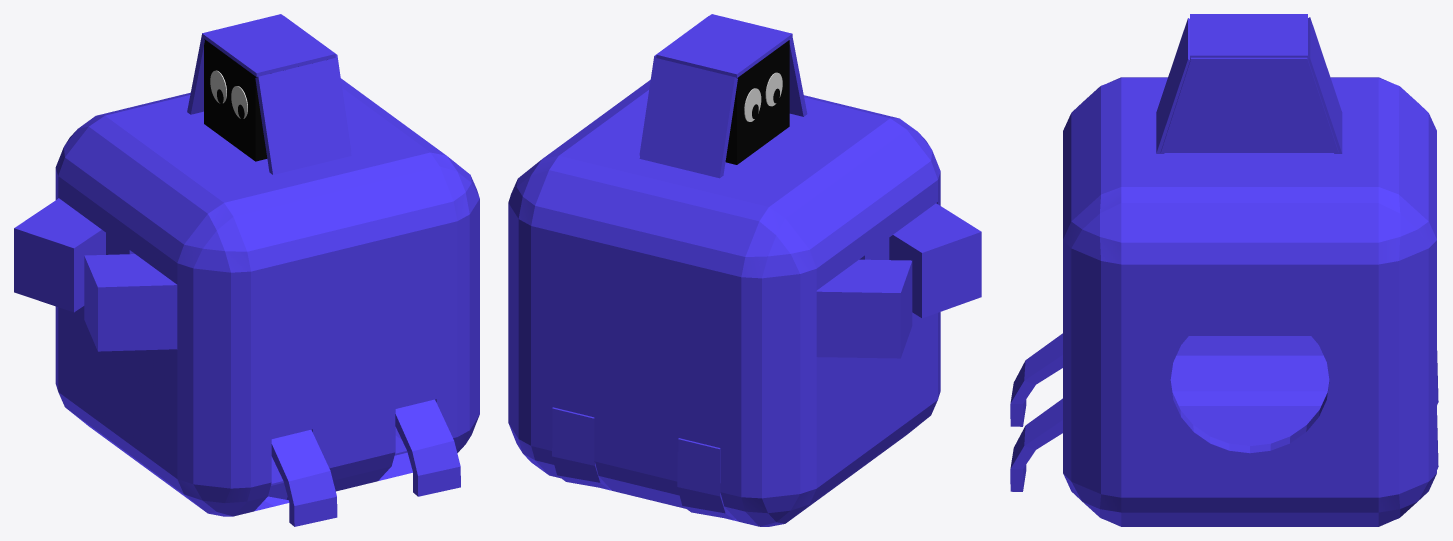
Rendered from Robot_Chasis.fbx.
3 views of the same model, side by side, from view 1: azimuth 30°, elevation 25°; view 2: azimuth 150°, elevation 25°; view 3: azimuth 270°, elevation 25° (orthographic). The views are drawn at different scales.
Parts seen in each view (by area): view 1: Chasis, Head-Right, Arm left, Arm right, Head-Core, Radkappe F/L, Radkappe B/L; view 2: Chasis, Head-Right, Arm right, Arm left, Head-Core, Radkappe F/R, Radkappe B/R; view 3: Chasis, Head_Back, Head-Right, Radkappe F/L, Radkappe B/L.
Boxes of the visible parts, x1,y1,x2,y2 form: Chasis: [55, 78, 479, 516]; Head-Right: [187, 14, 351, 174]; Arm left: [84, 254, 177, 351]; Arm right: [14, 198, 105, 312]; Head-Core: [204, 39, 267, 161]; Radkappe F/L: [271, 430, 337, 526]; Radkappe B/L: [395, 399, 460, 496]; Chasis: [508, 80, 940, 526]; Head-Right: [639, 14, 807, 178]; Arm right: [816, 259, 912, 358]; Arm left: [889, 203, 981, 318]; Head-Core: [725, 40, 789, 164]; Radkappe F/R: [677, 438, 734, 519]; Radkappe B/R: [552, 407, 609, 489]; Chasis: [1063, 77, 1436, 526]; Head_Back: [1160, 57, 1338, 152]; Head-Right: [1156, 14, 1342, 153]; Radkappe F/L: [1010, 333, 1062, 426]; Radkappe B/L: [1010, 398, 1062, 491].
Bounding box in the file's own units: 242 × 258 × 229.
